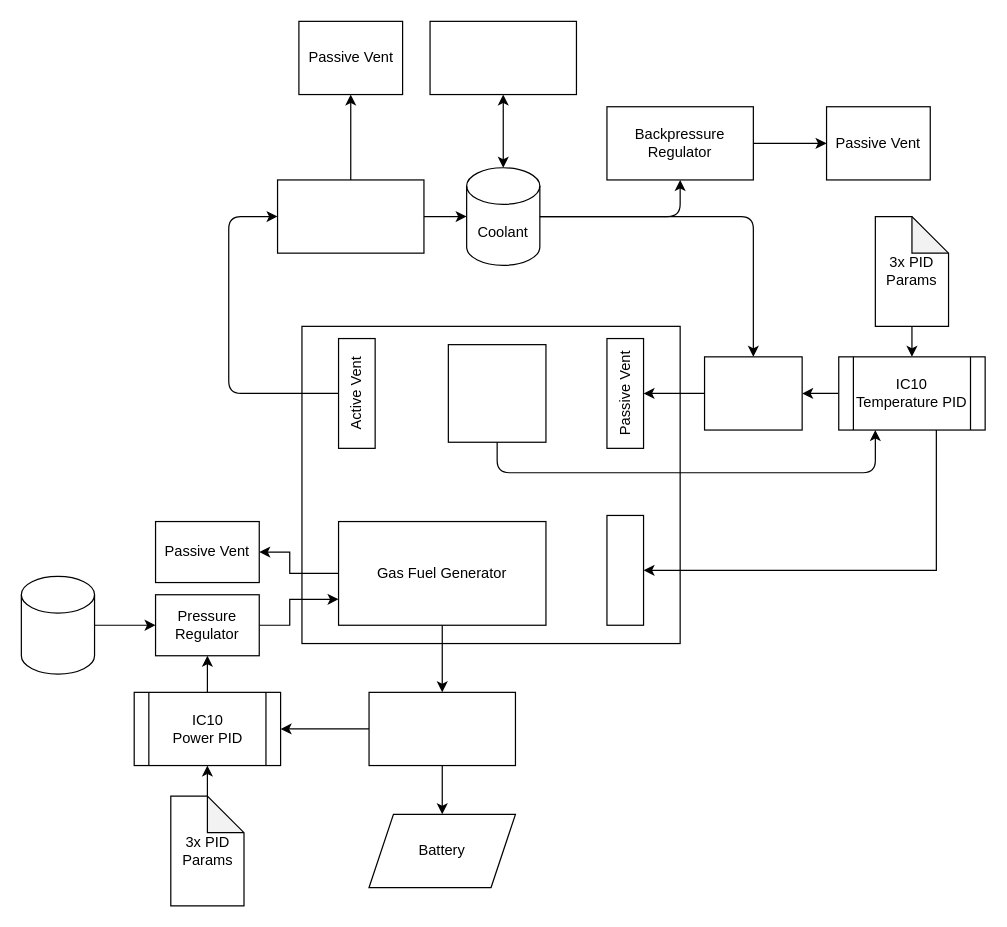
Image size: 1007x927. Some labels were removed from this diagram. The shapes that lost their labels are listed below. From the top down, each one's centre as x and y in pixels, then its label:
At (502,57): "Air Conditioner".
At (350,216): "Filtration".
At (496,392): "Gas Sensor".
At (752,393): "Volume Pump".
At (625,569): "Wall Heater".
At (57,624): "Fuel".
At (441,728): "Cable Analyzer".
